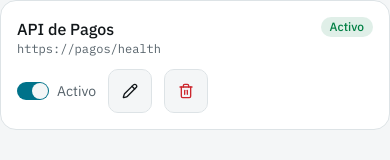
ServiceList › desactiva un servicio desde el interruptor
The image size is (390, 160).
Click the switch named "Desactivar API de Pagos": x=33, y=91 [17,82,49,100]
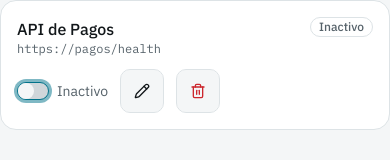
Expected: the text "Inactivo" in the row of "API de Pagos" is shown, [319,19,364,34]
